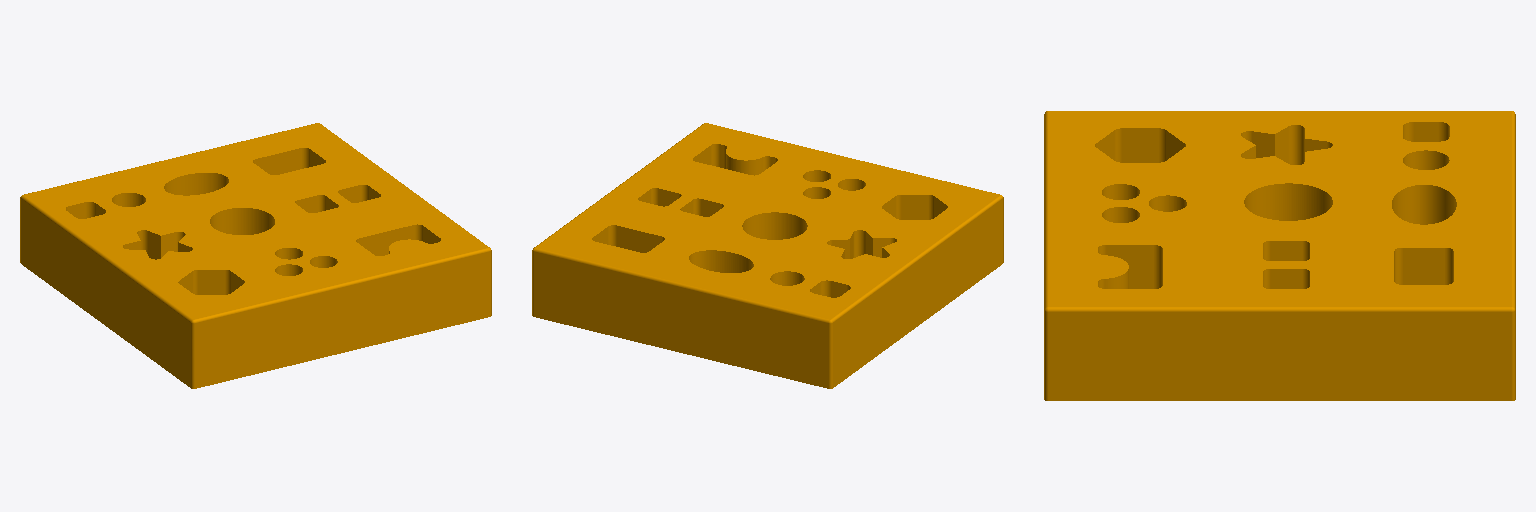
robot.urdf — fmb_simple_container_mid:
<?xml version="1.0"?>
<robot name="fmb_simple_container_mid">
    <link name="fmb_simple_container_mid">
        <visual>
            <geometry>
                <mesh filename="../mesh/vitascope_pegs/fmb_simple_container_mid.stl"/>
            </geometry>
        </visual>
        <collision>
            <geometry>
                <mesh filename="../mesh/vitascope_pegs/fmb_simple_container_mid.stl"/>
            </geometry>
            <sdf resolution="256"/>
        </collision>
    </link>
</robot>

--- Render facts (derived) ---
3 views of the same robot in one strip: view 1: azimuth 30°, elevation 25°; view 2: azimuth 150°, elevation 25°; view 3: azimuth 270°, elevation 25° (orthographic).
Model fmb_simple_container_mid with 1 links and 0 joints (none), rooted at fmb_simple_container_mid, posed every joint at zero.
Visible links, largest first — view 1: fmb_simple_container_mid; view 2: fmb_simple_container_mid; view 3: fmb_simple_container_mid.
Boxes of the visible links, x1=… form: fmb_simple_container_mid: x1=20, y1=123, x2=491, y2=388; fmb_simple_container_mid: x1=532, y1=123, x2=1003, y2=388; fmb_simple_container_mid: x1=1044, y1=111, x2=1515, y2=400.
Size in the robot's own frame: 0.23 by 0.23 by 0.05 metres.
Meshes: 1 distinct files referenced, 1 mesh visuals loaded (1 binary STL).
